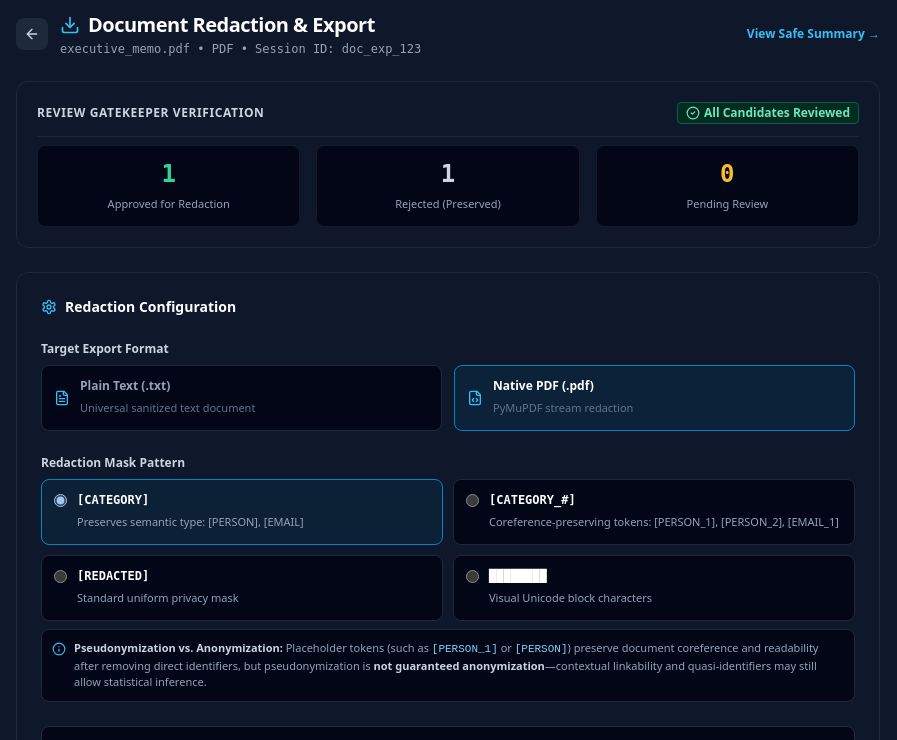
Test: ExportView Page › allows changing placeholder options including ENTITY_INDEXED and displays pseudonymization disclosure
This screenshot has width=897, height=740.
Expected: the text "[CATEGORY]" is shown, x1=77 y1=493 x2=149 y2=507
Expected: the element with test id "pseudonymization-disclosure-banner" shows "not guaranteed anonymization", x1=374 y1=658 x2=545 y2=672
// Select ENTITY_INDEXED ([CATEGORY_#]) option
Click the radio button showing "ENTITY_INDEXED" at (472, 500), box x1=466 y1=494 x2=479 y2=507
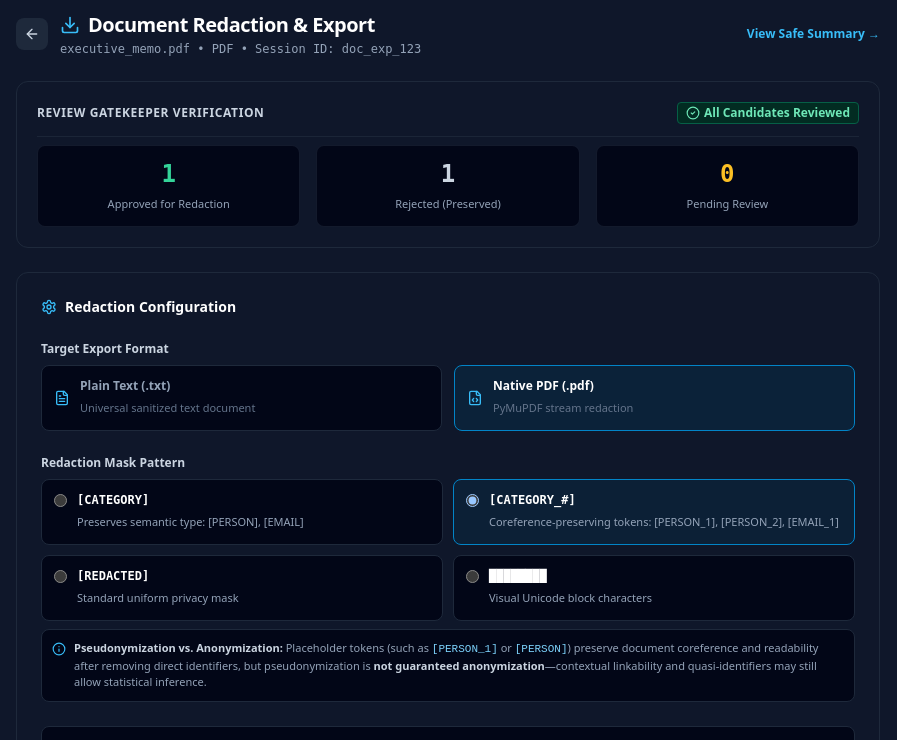
Now the radio button showing "ENTITY_INDEXED" is checked, box x1=466 y1=494 x2=479 y2=507
Click the radio button showing "GENERIC" at (60, 576), box x1=54 y1=570 x2=67 y2=583
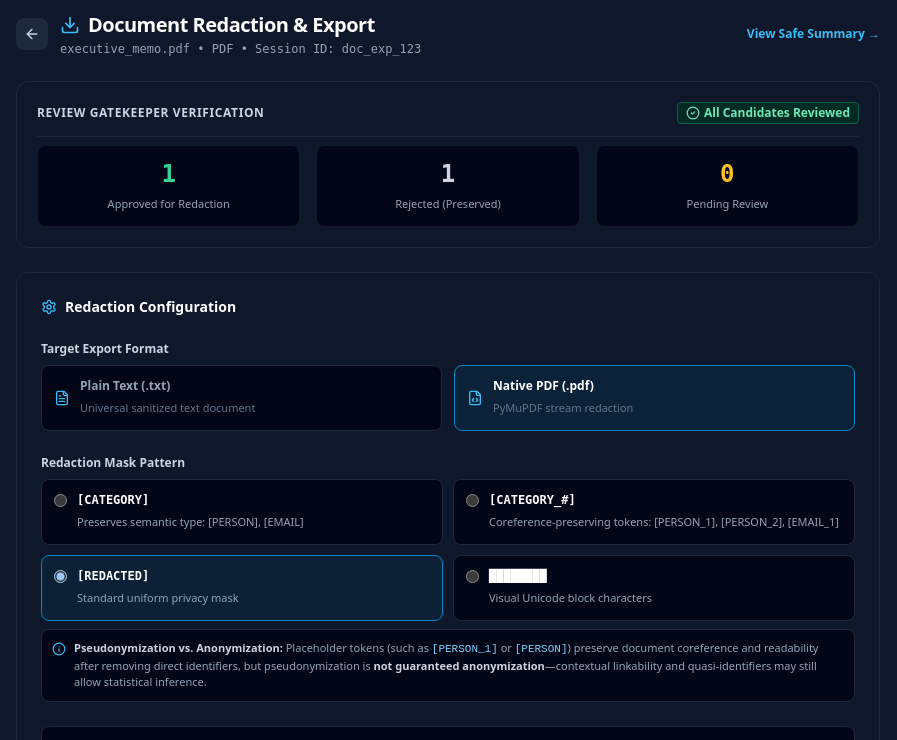
Now the radio button showing "GENERIC" is checked, box x1=54 y1=570 x2=67 y2=583
